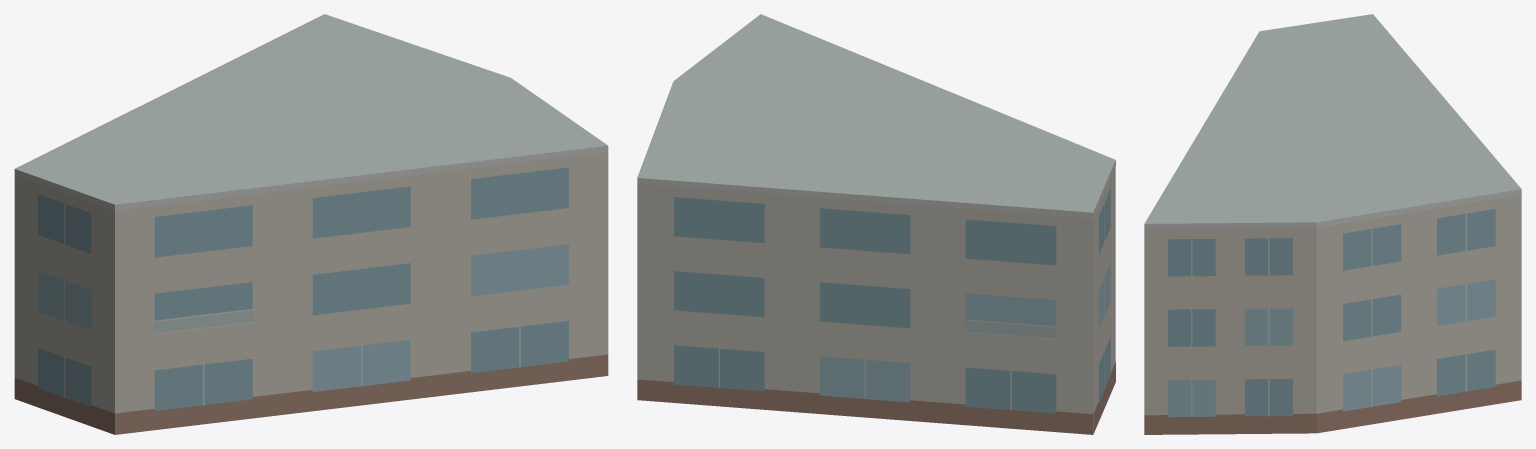
Rendered from survey-upis-32796077.glb.
The picture shows the model from 3 angles, left to right: view 1: azimuth 30°, elevation 25°; view 2: azimuth 150°, elevation 25°; view 3: azimuth 270°, elevation 25°; orthographic projection. The views are drawn at different scales.
Parts seen in each view (by area): view 1: survey-upis-32796077.tmp; view 2: survey-upis-32796077.tmp; view 3: survey-upis-32796077.tmp.
Boxes of the visible parts, <box> form: survey-upis-32796077.tmp: <box>14,14,608,434</box>; survey-upis-32796077.tmp: <box>637,14,1115,434</box>; survey-upis-32796077.tmp: <box>1144,14,1521,434</box>.
Size of the model in its own units: 19.53 by 9.15 by 14.84.
